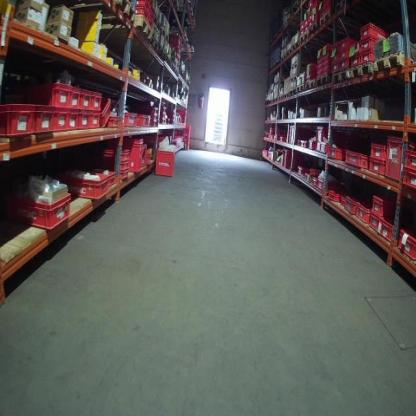pallet: (374, 51, 405, 75), (350, 60, 373, 80), (134, 15, 151, 42), (332, 68, 350, 84), (114, 0, 130, 16), (319, 9, 333, 27), (317, 73, 331, 86), (308, 21, 318, 36), (150, 36, 158, 54), (152, 13, 160, 31), (306, 78, 316, 91), (161, 27, 169, 43), (299, 30, 308, 44), (297, 83, 305, 95), (292, 41, 299, 52), (289, 89, 296, 97), (281, 54, 286, 63), (171, 62, 175, 73), (284, 92, 289, 99), (287, 49, 291, 57), (273, 97, 278, 103), (278, 96, 283, 101), (270, 99, 273, 104)
small_load_carrier: (9, 190, 73, 231), (383, 135, 415, 184), (24, 80, 71, 111), (62, 170, 110, 199), (1, 101, 35, 138), (114, 136, 144, 172), (315, 125, 344, 157), (30, 103, 57, 135), (371, 192, 400, 220), (95, 95, 115, 129), (48, 106, 73, 133), (153, 147, 175, 175), (358, 20, 390, 39), (398, 230, 415, 261), (97, 148, 132, 162), (344, 148, 367, 169), (381, 218, 397, 247), (65, 83, 81, 111), (367, 156, 388, 177), (114, 112, 139, 129), (369, 144, 391, 161), (356, 200, 371, 222), (97, 169, 115, 187), (336, 46, 357, 61), (357, 38, 381, 51), (100, 160, 131, 170), (316, 3, 333, 21), (344, 190, 356, 215), (78, 86, 90, 111), (67, 111, 80, 133), (78, 112, 91, 133), (133, 3, 148, 21), (90, 92, 102, 114), (336, 35, 356, 48), (106, 113, 122, 129), (327, 146, 344, 161), (404, 148, 415, 171), (403, 168, 415, 189), (327, 186, 341, 203), (339, 56, 353, 73), (90, 113, 103, 131), (361, 51, 377, 65), (372, 213, 382, 234), (321, 44, 336, 58), (133, 115, 147, 129), (139, 104, 158, 114), (140, 114, 151, 131), (350, 55, 364, 68), (320, 144, 332, 159), (349, 44, 363, 56), (329, 60, 341, 74), (167, 31, 181, 43), (119, 169, 132, 180), (146, 121, 159, 130), (331, 46, 341, 57), (340, 194, 347, 208), (146, 114, 159, 121), (133, 1, 151, 6), (315, 47, 322, 59)
